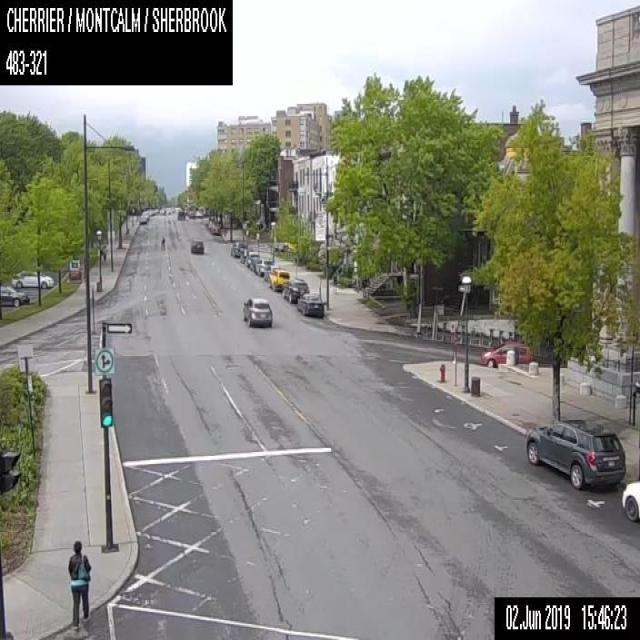pedestrian: (67, 539, 91, 628), (102, 243, 106, 260), (160, 236, 165, 249)
vehicle: (524, 416, 626, 489), (478, 337, 537, 368), (242, 296, 272, 327), (11, 268, 53, 289), (620, 478, 639, 522), (282, 277, 308, 302), (297, 292, 324, 316), (0, 285, 29, 306), (268, 268, 290, 288), (254, 258, 272, 276), (263, 264, 279, 281), (230, 242, 245, 256), (239, 246, 252, 262), (245, 250, 258, 266), (191, 238, 203, 254), (249, 256, 262, 270), (210, 224, 219, 233), (141, 210, 149, 219), (177, 211, 184, 219), (139, 215, 146, 222), (188, 211, 194, 218), (158, 208, 164, 214)
